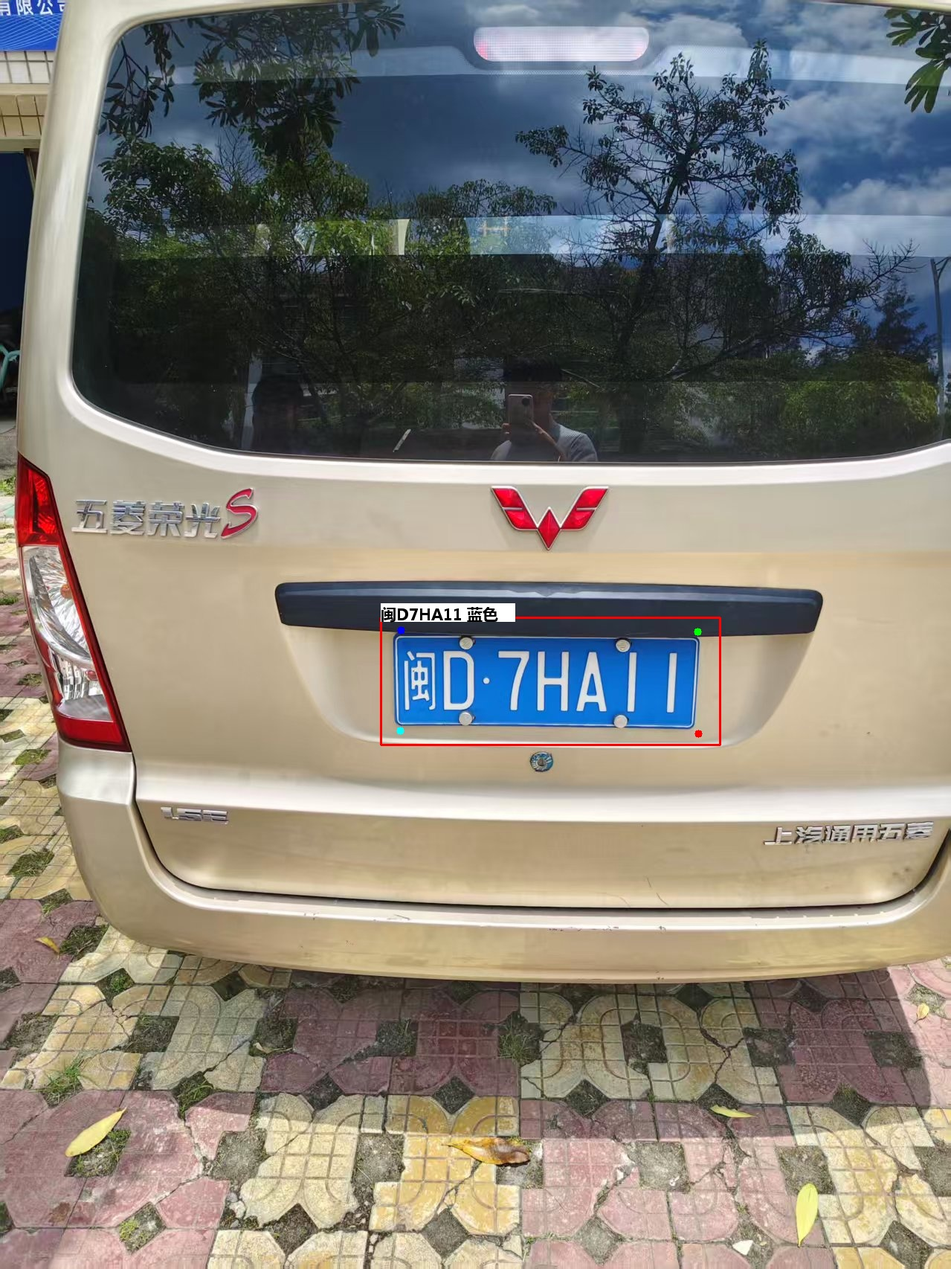plate: (499, 521, 659, 641)
